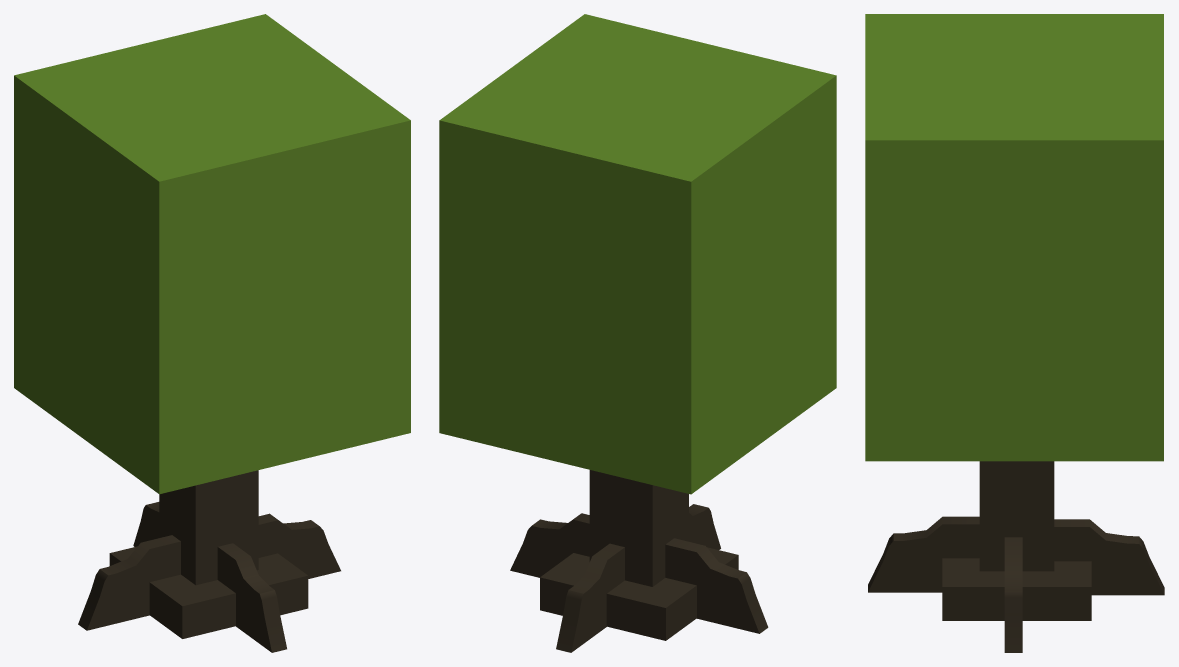
The model's file is Tree.fbx.
3 views of the same model, side by side, from view 1: azimuth 30°, elevation 25°; view 2: azimuth 150°, elevation 25°; view 3: azimuth 270°, elevation 25° (orthographic). The views are drawn at different scales.
Visible parts, largest first — view 1: group7; view 2: group7; view 3: group7.
Boxes of the visible parts, x1,y1,x2,y2 form: group7: (14, 14, 410, 652); group7: (439, 14, 836, 652); group7: (865, 14, 1164, 652).
Size of the model in its own units: 8.07 by 15.19 by 8.02.
